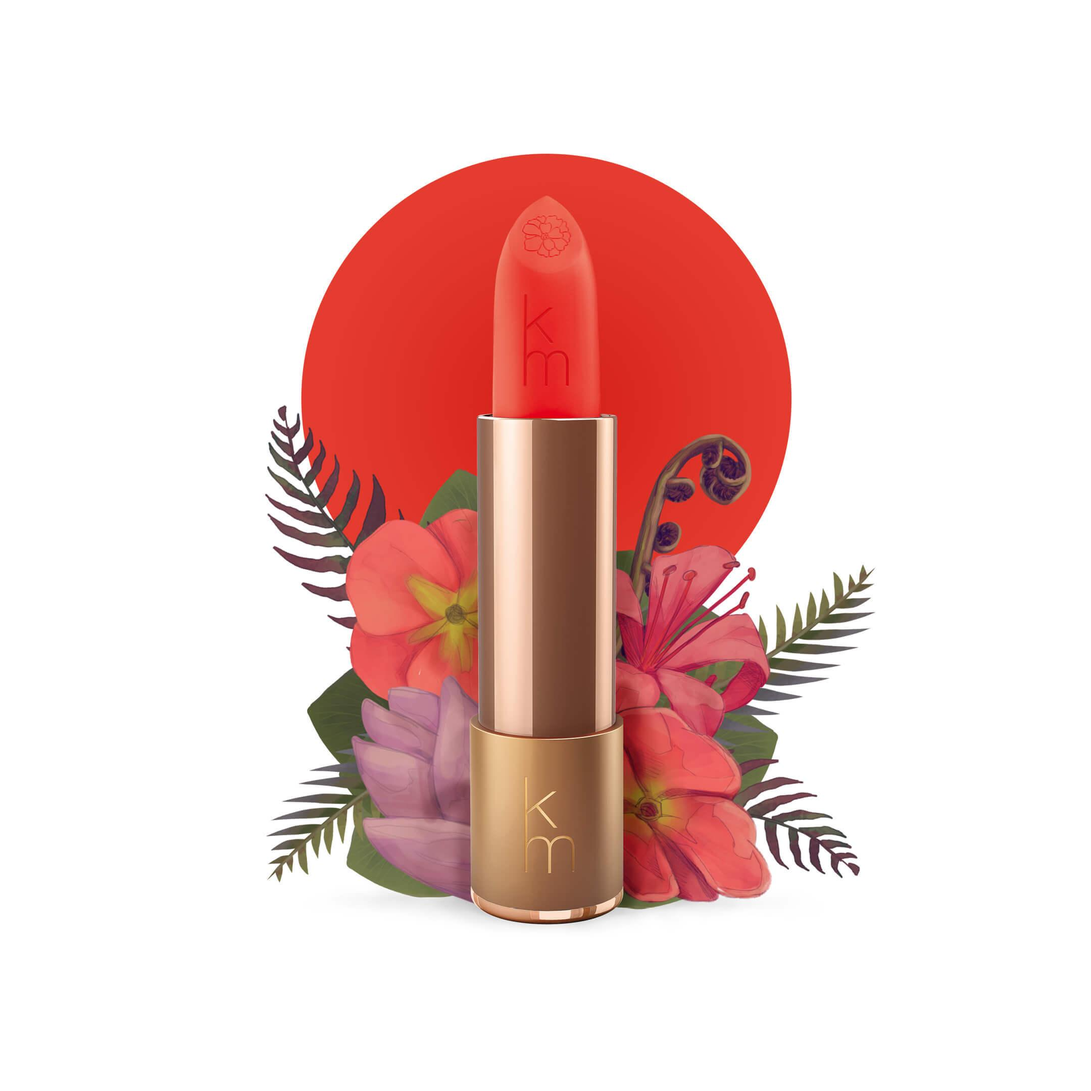lipstick: (436, 178, 657, 925)
